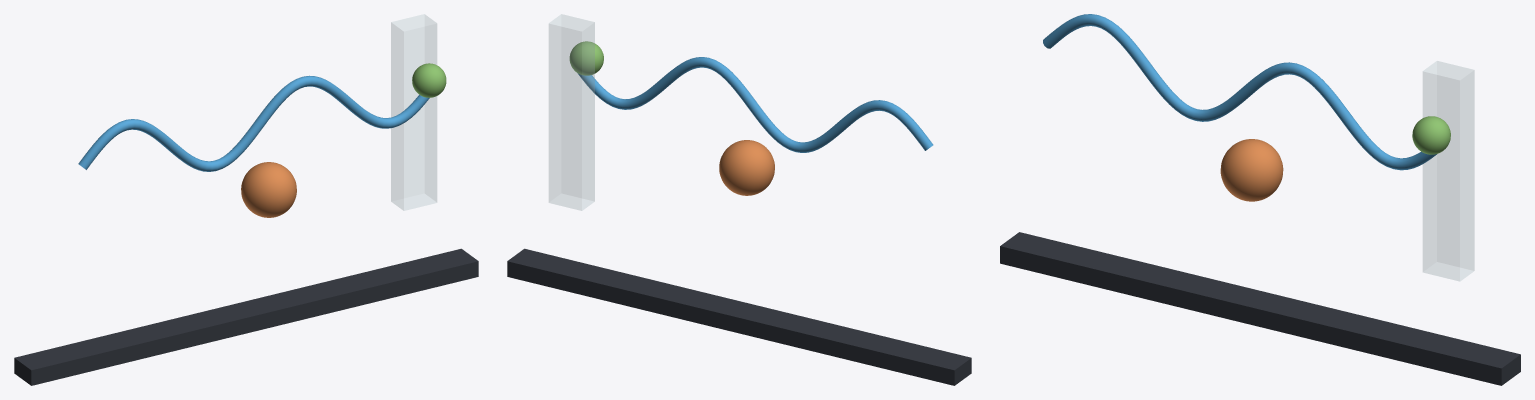
The model's file is physics-modern-wave-particle-model.glb.
3 renders of one model, left to right at view 1: azimuth 30°, elevation 25°; view 2: azimuth 150°, elevation 25°; view 3: azimuth 330°, elevation 25°, orthographic. The views are drawn at different scales.
Parts seen in each view (by area): view 1: modern-physics-bench, experiment-setup-screen, wave-pattern-interference, single-click-localized-detection, detector-hit-spot; view 2: modern-physics-bench, experiment-setup-screen, wave-pattern-interference, single-click-localized-detection, detector-hit-spot; view 3: modern-physics-bench, experiment-setup-screen, wave-pattern-interference, single-click-localized-detection, detector-hit-spot.
Boxes of the visible parts, <box> form: modern-physics-bench: <box>14,248,478,385</box>; experiment-setup-screen: <box>391,14,436,210</box>; wave-pattern-interference: <box>78,75,429,171</box>; single-click-localized-detection: <box>241,162,296,217</box>; detector-hit-spot: <box>412,63,446,97</box>; modern-physics-bench: <box>507,248,971,385</box>; experiment-setup-screen: <box>549,14,594,210</box>; wave-pattern-interference: <box>578,57,933,152</box>; single-click-localized-detection: <box>719,140,774,195</box>; detector-hit-spot: <box>569,41,603,75</box>; modern-physics-bench: <box>1000,232,1520,385</box>; experiment-setup-screen: <box>1423,61,1474,281</box>; wave-pattern-interference: <box>1043,14,1436,170</box>; single-click-localized-detection: <box>1220,139,1283,201</box>; detector-hit-spot: <box>1412,116,1450,154</box>.
Size of what is drawn, in the model's own units: 2.4 by 1.34 by 0.35.
